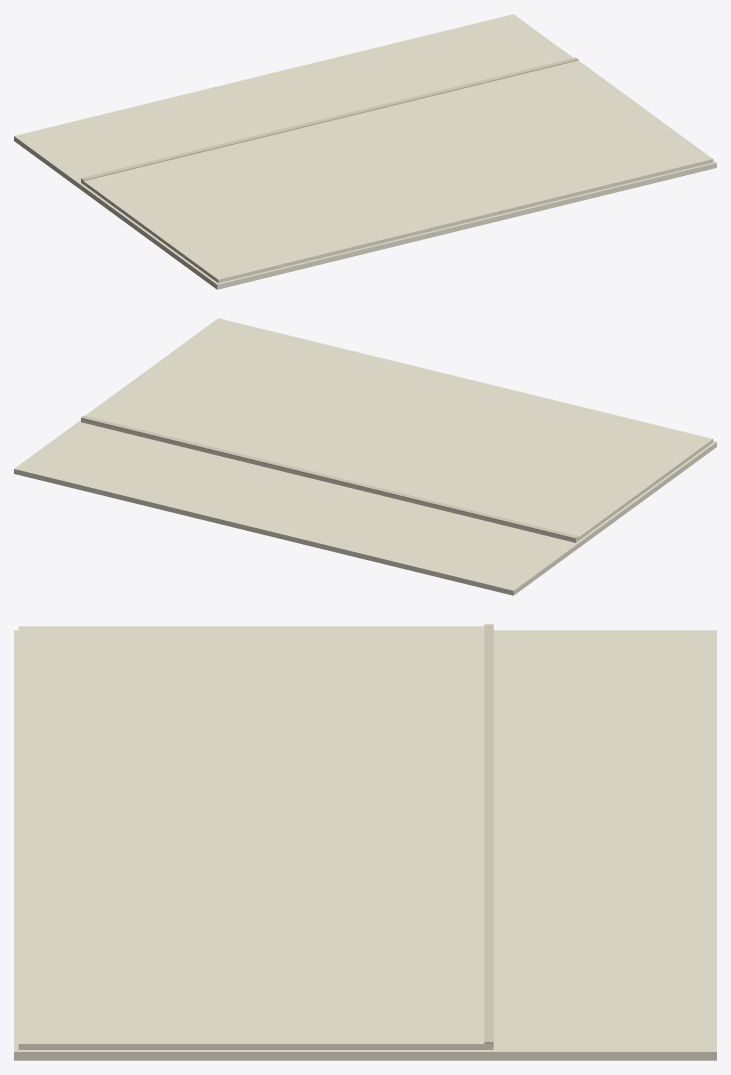
The model's file is folded_note.glb.
The picture shows the model from 3 angles, top to bottom: view 1: azimuth 30°, elevation 25°; view 2: azimuth 150°, elevation 25°; view 3: azimuth 270°, elevation 25°; orthographic projection. The views are drawn at different scales.
Parts seen in each view (by area): view 1: folded_note; view 2: folded_note; view 3: folded_note.
Part boxes in pixels (x1,y1,x2,y2): folded_note: (14,14,716,289); folded_note: (14,318,716,595); folded_note: (14,624,716,1060).
Bounding box in the file's own units: 0.21 × 0.00385 × 0.148.
